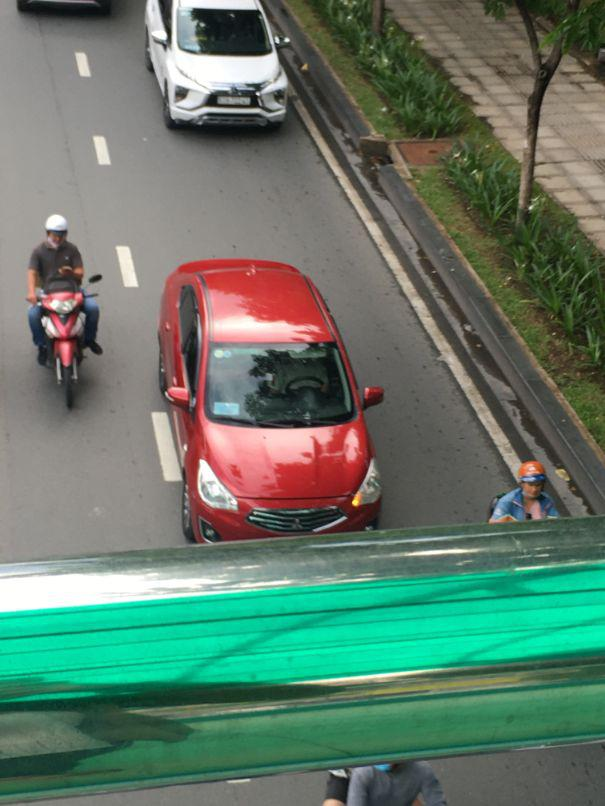car: (156, 258, 378, 543), (146, 1, 289, 134)
motorbike: (33, 275, 97, 412)
